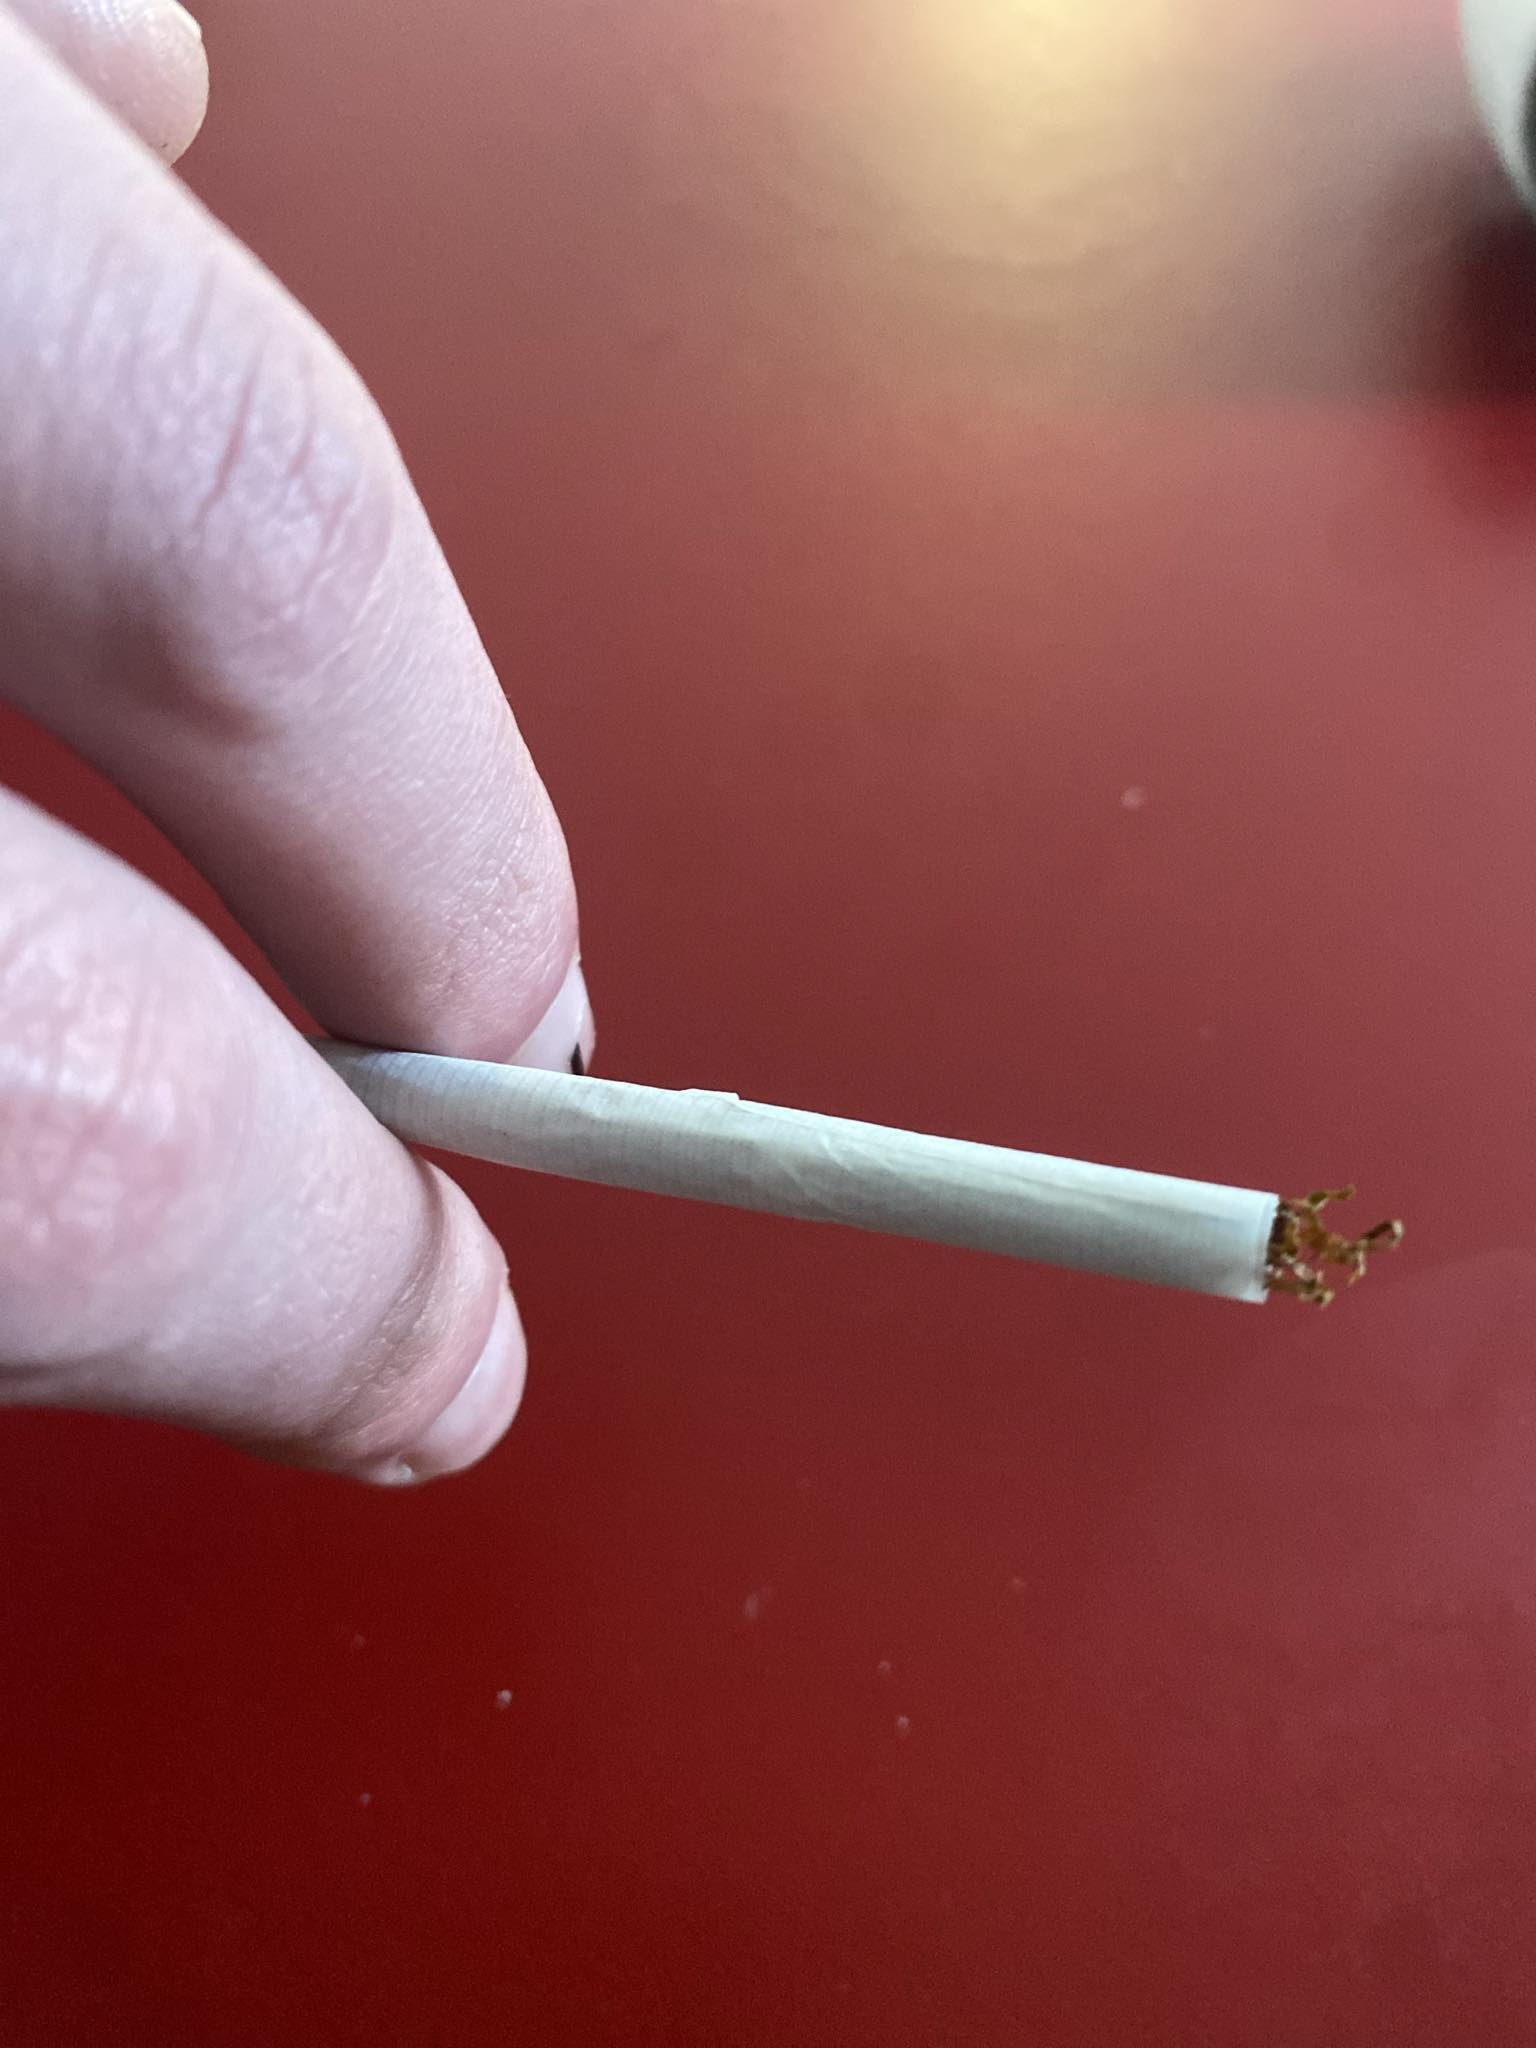Cigarette: (305, 1030, 1405, 1311)
